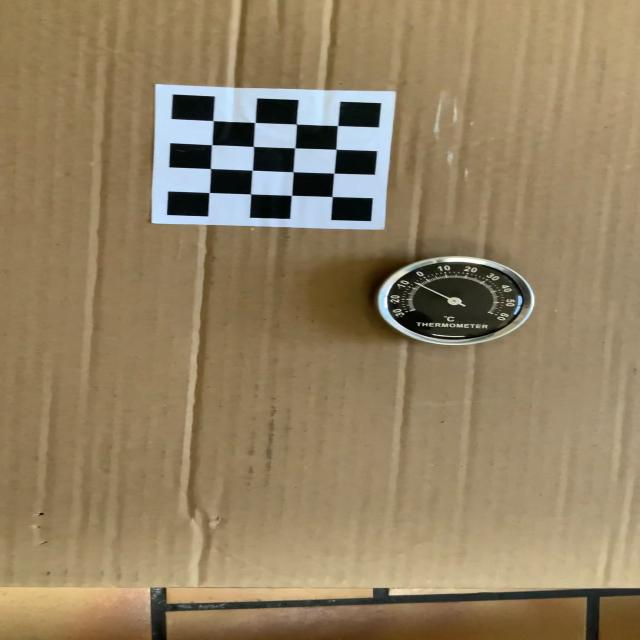gauge: (375, 252, 537, 348)
